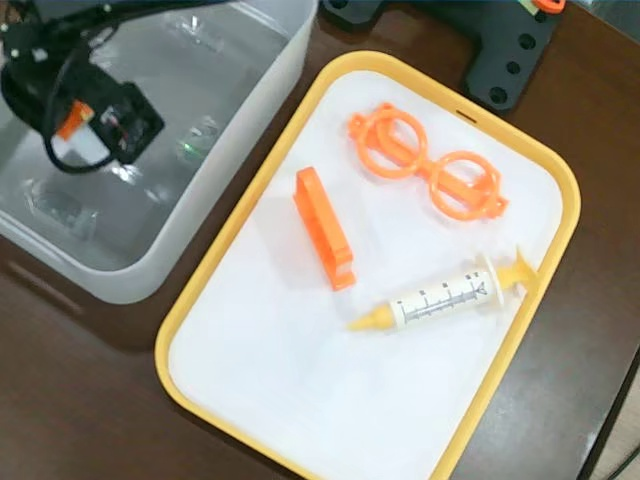syringe: (349, 240, 542, 345)
